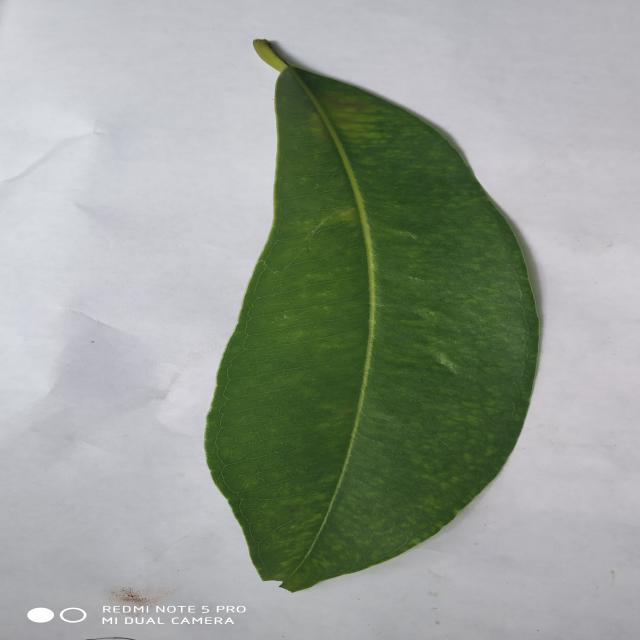nerale: (204, 40, 540, 591)
